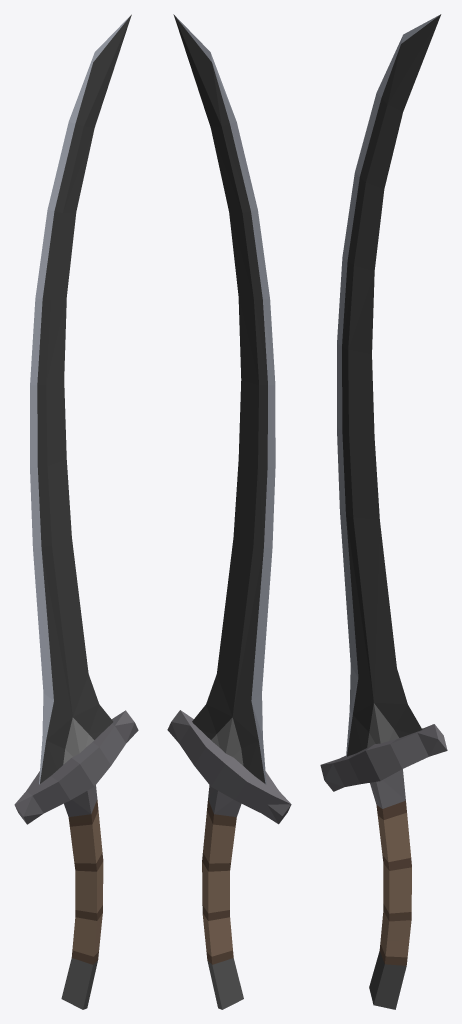
The model's file is Sword_5.fbx.
3 renders of one model, left to right at view 1: azimuth 30°, elevation 25°; view 2: azimuth 150°, elevation 25°; view 3: azimuth 330°, elevation 25°, orthographic. The views are drawn at different scales.
Parts seen in each view (by area): view 1: polySurface454; view 2: polySurface454; view 3: polySurface454.
Boxes of the visible parts, left/top/right/bottom form: polySurface454: left=14, top=14, right=138, bottom=1009; polySurface454: left=167, top=14, right=291, bottom=1009; polySurface454: left=320, top=14, right=447, bottom=1009.
Bounding box in the file's own units: 45.09 × 341 × 13.79.
